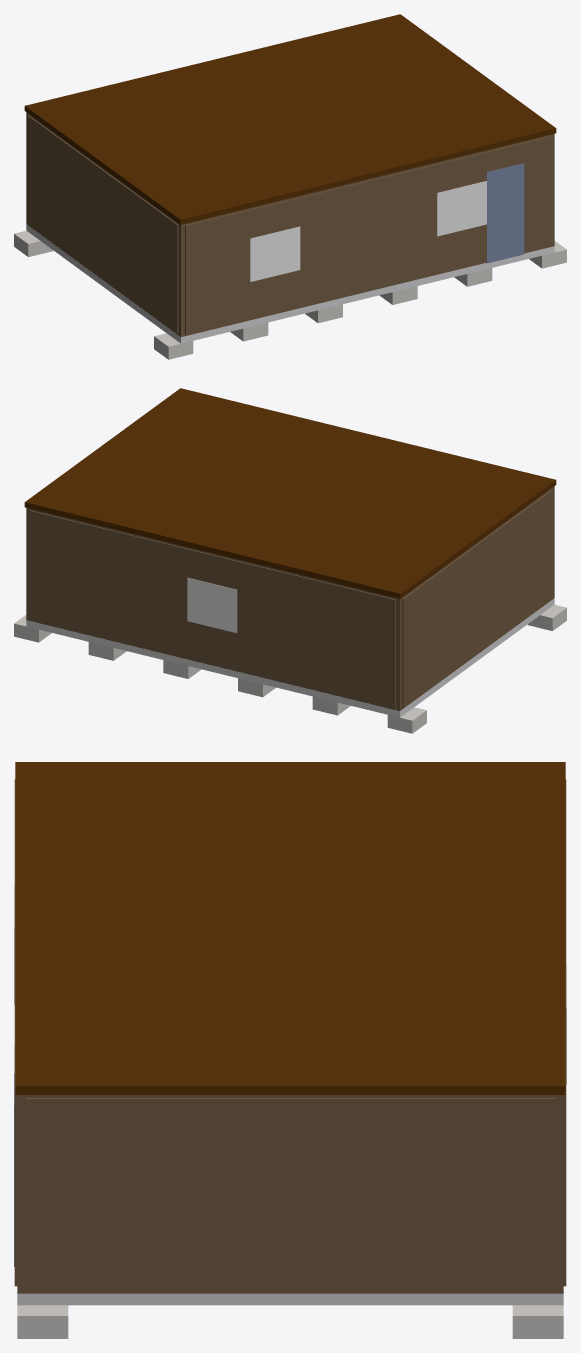
Rendered from Studio-30-Base-WengeWood-LOD1.glb.
3 renders of one model, top to bottom at view 1: azimuth 30°, elevation 25°; view 2: azimuth 150°, elevation 25°; view 3: azimuth 270°, elevation 25°, orthographic. The views are drawn at different scales.
Parts seen in each view (by area): view 1: RoofMain, ExteriorPanelsStandard, WindowsStandard, BaseFrame, FoundationBlocks, EntryDoor, ExteriorShell; view 2: RoofMain, ExteriorPanelsStandard, BaseFrame, FoundationBlocks, ExteriorShell, WindowsStandard; view 3: RoofMain, ExteriorPanelsStandard, BaseFrame, ExteriorShell, FoundationBlocks.
Boxes of the visible parts, box(x1,y1,x2,y2) form: RoofMain: box(24, 14, 556, 224); ExteriorPanelsStandard: box(27, 115, 551, 334); WindowsStandard: box(250, 181, 486, 281); BaseFrame: box(26, 224, 554, 343); FoundationBlocks: box(14, 230, 566, 359); EntryDoor: box(486, 163, 524, 263); ExteriorShell: box(26, 112, 554, 336); RoofMain: box(24, 388, 556, 598); ExteriorPanelsStandard: box(30, 489, 553, 708); BaseFrame: box(26, 598, 554, 717); FoundationBlocks: box(14, 604, 566, 733); ExteriorShell: box(26, 486, 554, 710); WindowsStandard: box(187, 577, 237, 633); RoofMain: box(15, 762, 565, 1094); ExteriorPanelsStandard: box(14, 779, 566, 1290); BaseFrame: box(17, 1293, 563, 1305); ExteriorShell: box(17, 1095, 563, 1293); FoundationBlocks: box(17, 1305, 563, 1338).
Size of the model in its own units: 9.6 by 3.17 by 6.53.
